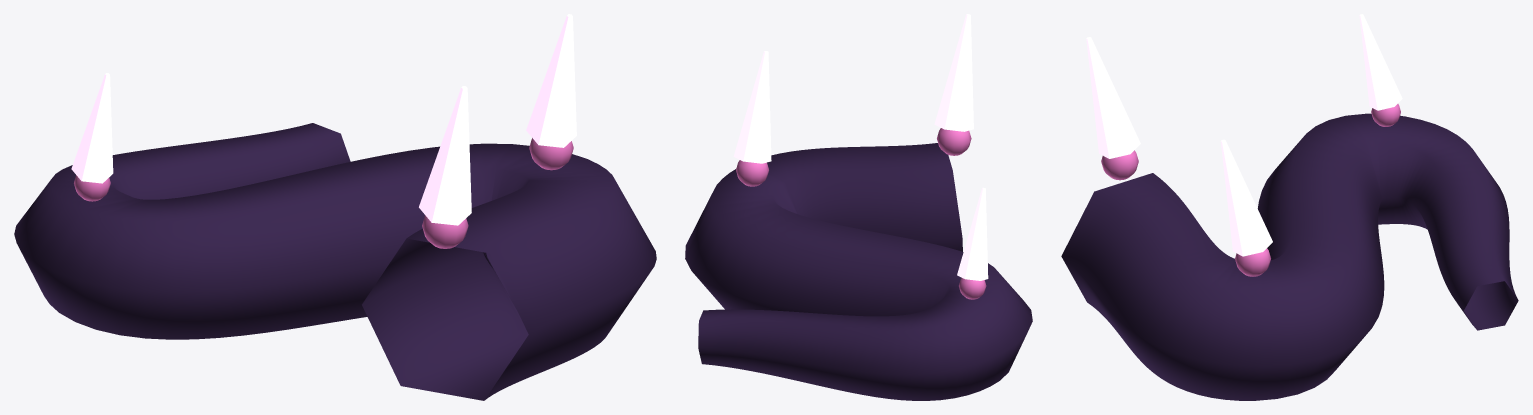
File: SM_Keeper_Apep_Body_F31.fbx
3 views of the same model, side by side, from view 1: azimuth 30°, elevation 25°; view 2: azimuth 150°, elevation 25°; view 3: azimuth 270°, elevation 25° (orthographic). The views are drawn at different scales.
Visible parts, largest first — view 1: SM_Keeper_Apep_Body_F31; view 2: SM_Keeper_Apep_Body_F31; view 3: SM_Keeper_Apep_Body_F31.
Part boxes in pixels (x1,y1,x2,y2): SM_Keeper_Apep_Body_F31: (14, 14, 656, 400); SM_Keeper_Apep_Body_F31: (685, 14, 1032, 400); SM_Keeper_Apep_Body_F31: (1061, 14, 1518, 400).
Size of the model in its own units: 6.83 by 4.37 by 6.53.
